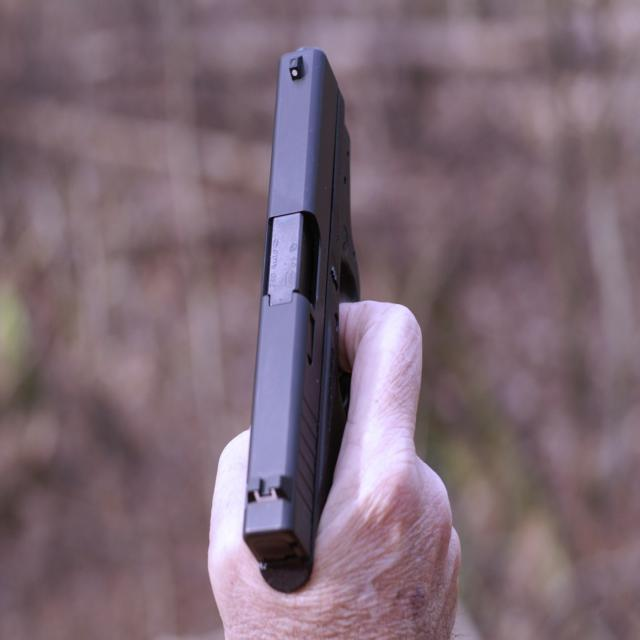HandGun: (240, 35, 376, 598)
